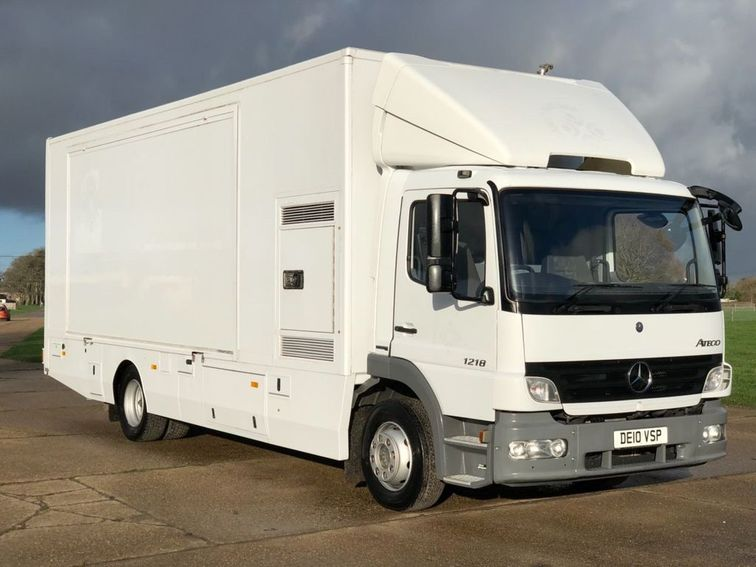Semi: (41, 45, 742, 511)
